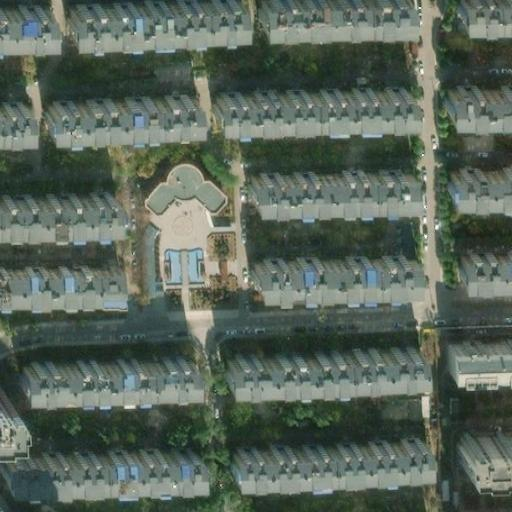building: (221, 428, 419, 472), (215, 339, 412, 383), (3, 441, 198, 482), (209, 76, 404, 117), (239, 157, 401, 201), (13, 347, 184, 387), (247, 248, 405, 288), (36, 85, 190, 126), (0, 182, 115, 225), (0, 265, 122, 304), (133, 160, 215, 211), (436, 73, 512, 114), (437, 154, 512, 192), (130, 217, 158, 313), (439, 334, 512, 370), (449, 242, 512, 278), (161, 246, 206, 287), (447, 419, 494, 453), (493, 419, 512, 456)
